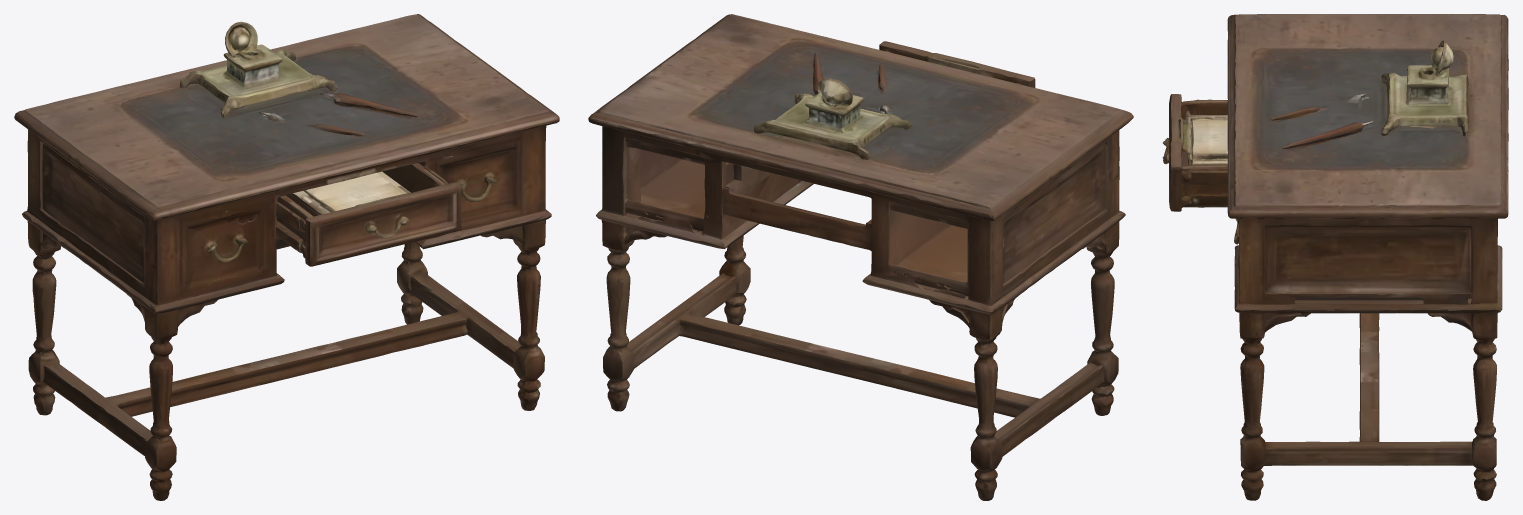
The model's file is obj_study_desk.glb.
3 views of the same model, side by side, from view 1: azimuth 30°, elevation 25°; view 2: azimuth 150°, elevation 25°; view 3: azimuth 270°, elevation 25° (orthographic).
Visible parts, largest first — view 1: geometry_0; view 2: geometry_0; view 3: geometry_0.
Boxes of the visible parts, <box> form: geometry_0: <box>14,14,559,500</box>; geometry_0: <box>588,14,1133,500</box>; geometry_0: <box>1162,14,1508,500</box>.
Bounding box in the file's own units: 1.2 × 1.02 × 0.8849.
Materials: 1 (1 with a texture image).
